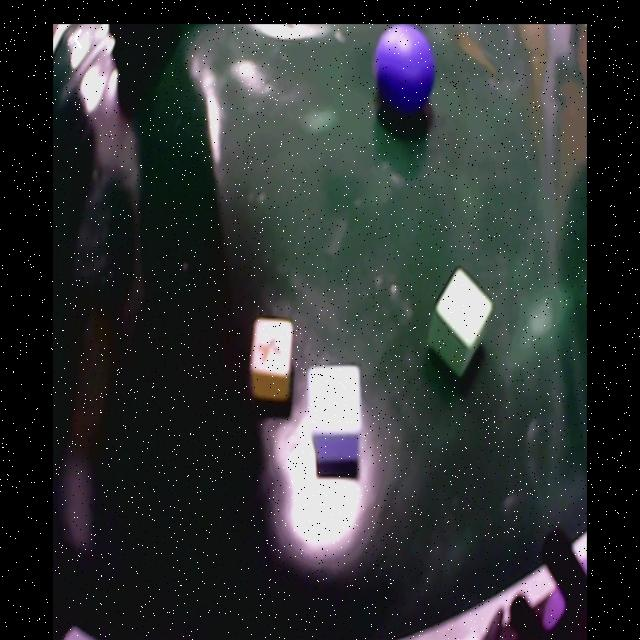ball: (375, 27, 435, 114), (544, 557, 588, 639)
